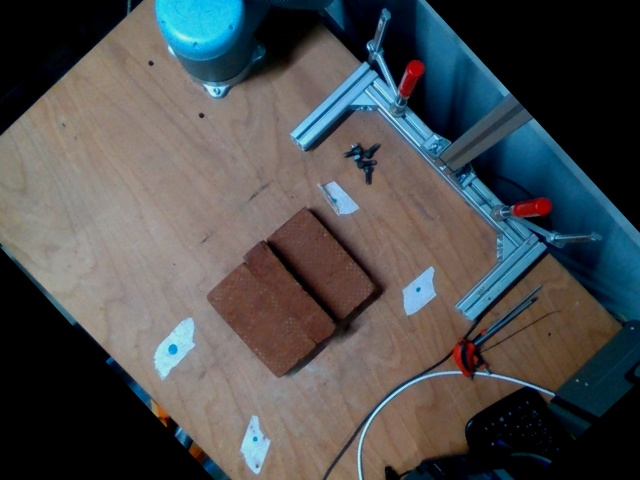brick: (267, 207, 378, 324), (204, 264, 315, 379)
brick-side: (238, 238, 337, 347)
